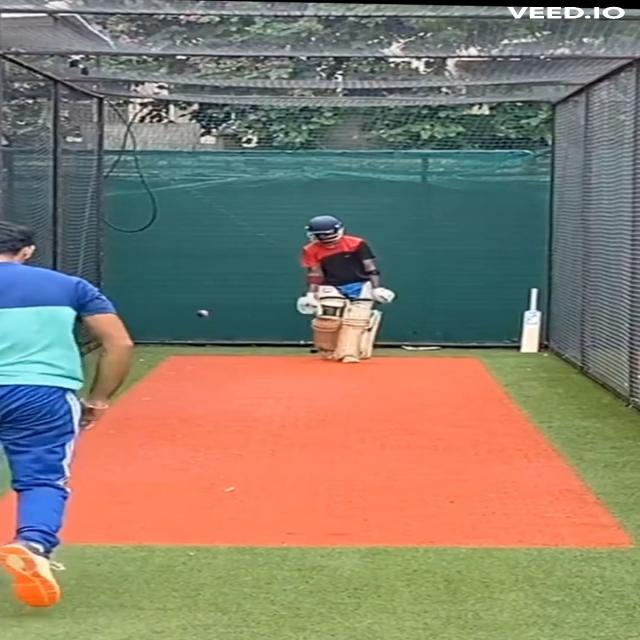ball: (191, 308, 215, 320)
